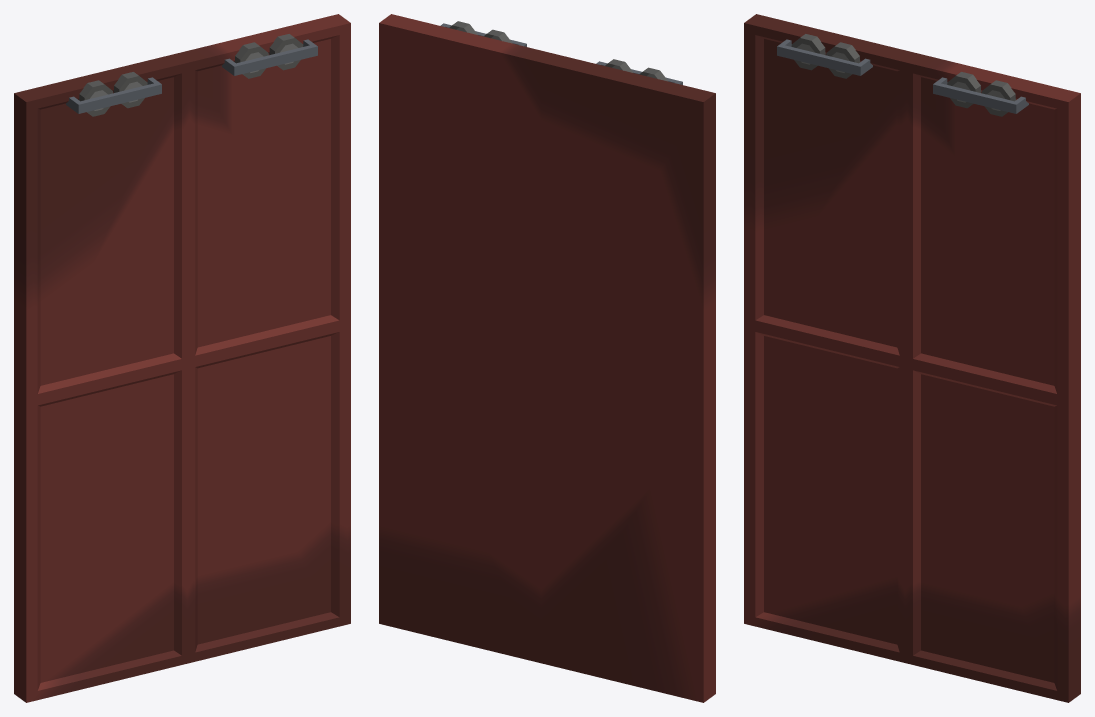
File: SM_Bld_Warehouse_Brick_Door_02.obj
3 views of the same model, side by side, from view 1: azimuth 30°, elevation 25°; view 2: azimuth 150°, elevation 25°; view 3: azimuth 330°, elevation 25° (orthographic).
Parts seen in each view (by area): view 1: SM_Bld_Warehouse_Brick_Door_02_0; view 2: SM_Bld_Warehouse_Brick_Door_02_0; view 3: SM_Bld_Warehouse_Brick_Door_02_0.
Part boxes in pixels (x1,y1,x2,y2): SM_Bld_Warehouse_Brick_Door_02_0: (14,14,350,702); SM_Bld_Warehouse_Brick_Door_02_0: (379,14,715,702); SM_Bld_Warehouse_Brick_Door_02_0: (744,14,1080,702).
Bounding box in the file's own units: 2.95 × 5.25 × 0.3446.
Materials: 1 (1 with a texture image).
